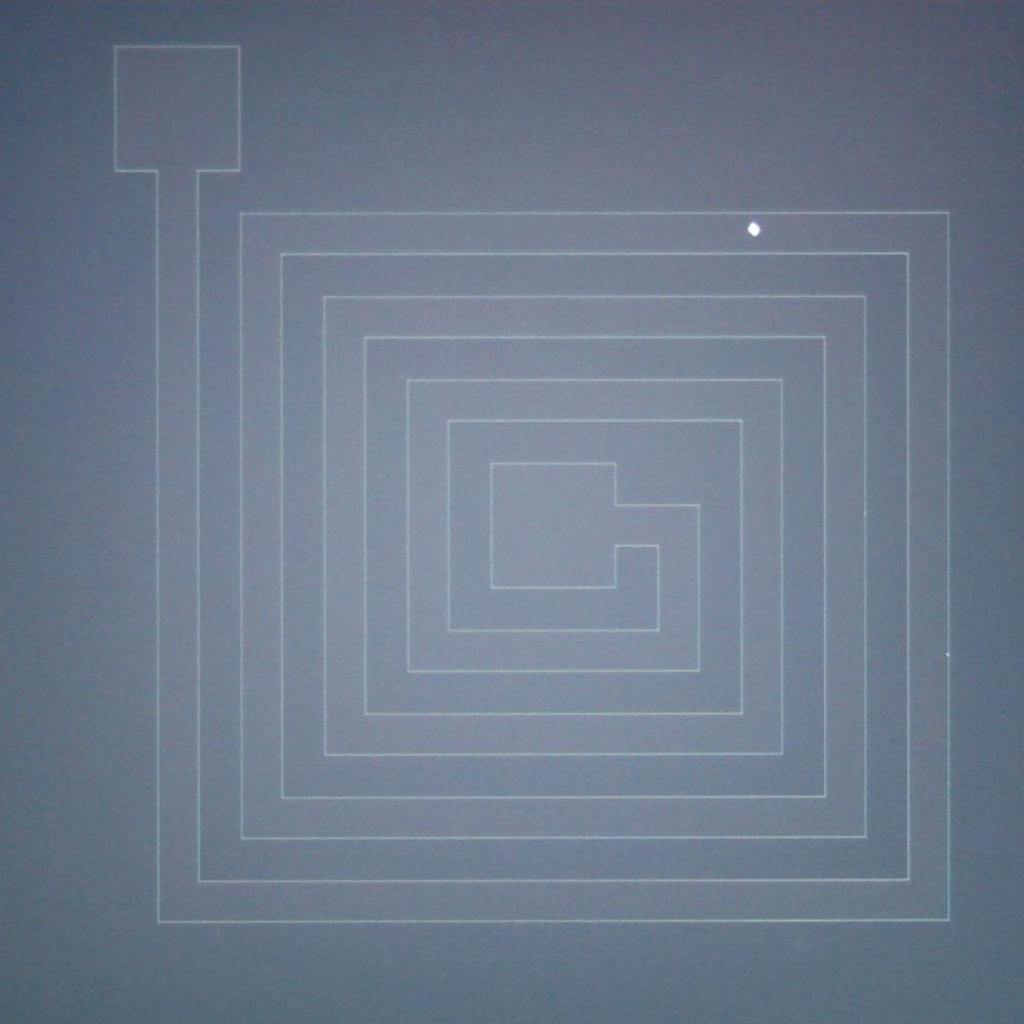dot: (746, 222, 761, 237)
